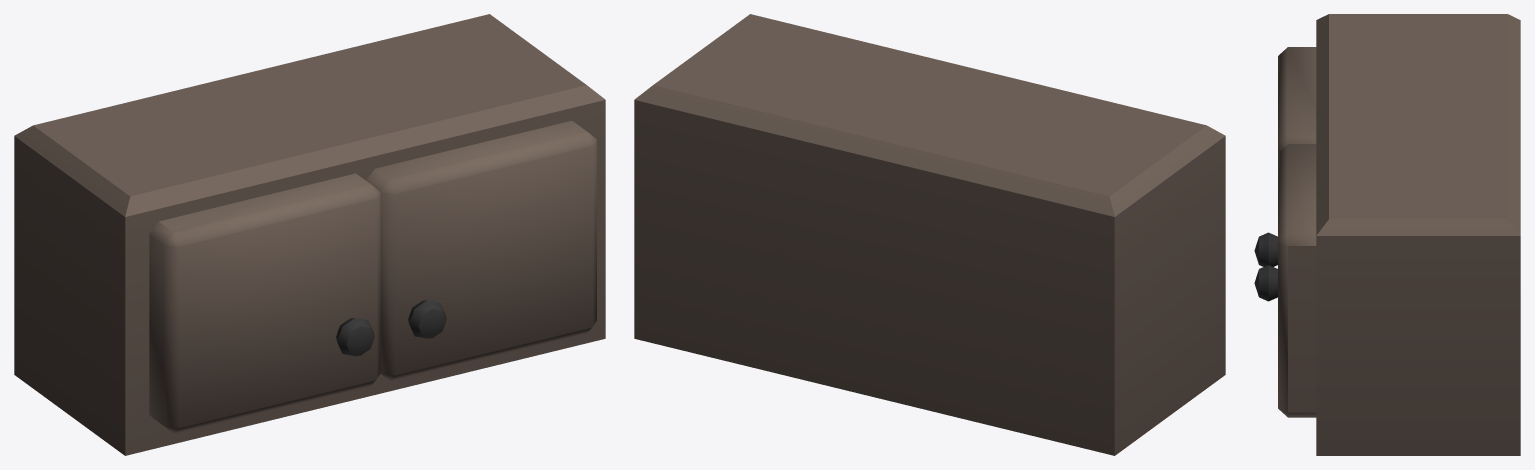
Rendered from kitchencabinet_half_styleB.obj.
3 views of the same model, side by side, from view 1: azimuth 30°, elevation 25°; view 2: azimuth 150°, elevation 25°; view 3: azimuth 270°, elevation 25° (orthographic). The views are drawn at different scales.
Parts seen in each view (by area): view 1: kitchencabinet_half_styleB_Cube.028; view 2: kitchencabinet_half_styleB_Cube.028; view 3: kitchencabinet_half_styleB_Cube.028.
Boxes of the visible parts, left/top/right/bottom form: kitchencabinet_half_styleB_Cube.028: left=14, top=14, right=605, bottom=455; kitchencabinet_half_styleB_Cube.028: left=634, top=14, right=1225, bottom=455; kitchencabinet_half_styleB_Cube.028: left=1254, top=14, right=1520, bottom=455.
Bounding box in the file's own units: 2 × 1 × 1.04.
1 material, 1 textured.
